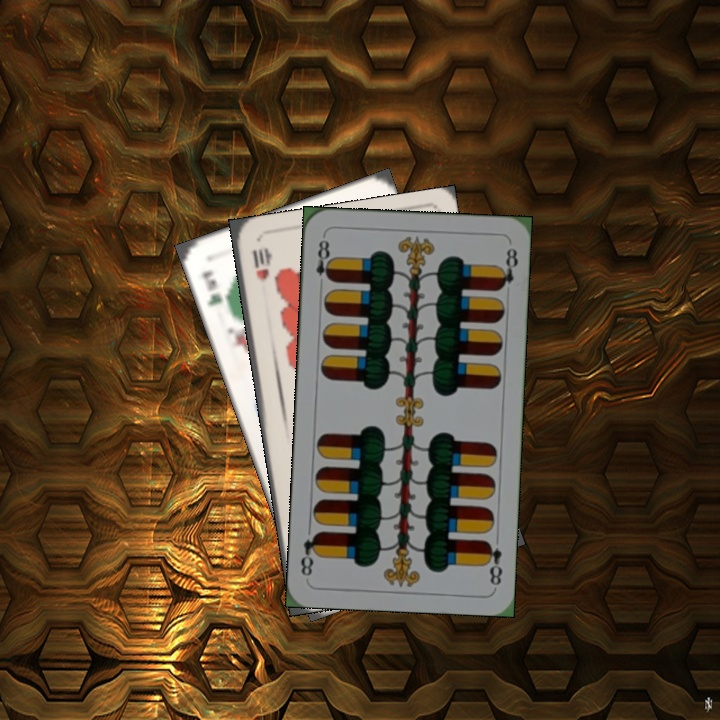E8: (312, 232, 335, 291), (480, 536, 505, 588)
GK: (197, 266, 225, 309)
H10: (248, 244, 272, 283)
